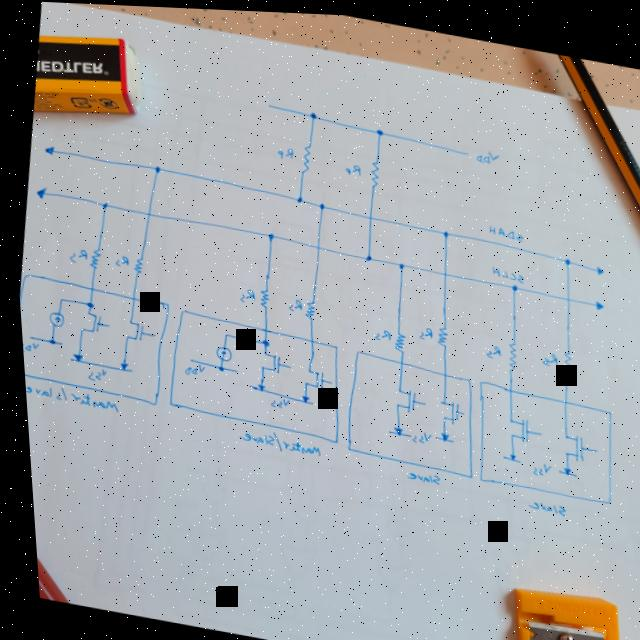crossover: (311, 240, 321, 250), (560, 290, 570, 299), (438, 266, 447, 275), (364, 210, 373, 219), (142, 209, 151, 218)
junction: (373, 123, 385, 135), (150, 162, 161, 173), (505, 278, 517, 288), (307, 108, 318, 118), (559, 252, 570, 262), (263, 229, 274, 239), (257, 336, 267, 346), (292, 192, 302, 202), (43, 336, 54, 345), (394, 257, 403, 267), (439, 225, 449, 234), (98, 200, 108, 209), (360, 250, 370, 259), (315, 199, 324, 208), (82, 299, 91, 308), (54, 295, 62, 303), (218, 330, 226, 337), (214, 363, 221, 371)
resistor: (296, 140, 314, 173), (499, 335, 516, 368), (364, 155, 381, 185), (556, 344, 571, 373), (84, 246, 101, 271), (253, 285, 269, 308), (431, 321, 447, 344), (388, 327, 404, 349), (300, 296, 315, 318), (128, 255, 143, 276)
source: (432, 425, 447, 440), (384, 421, 400, 434), (114, 360, 126, 372), (68, 352, 80, 362), (296, 392, 306, 401), (557, 462, 566, 471), (252, 382, 261, 389), (503, 450, 512, 457)
terminal: (243, 383, 311, 403), (65, 356, 129, 373), (183, 356, 237, 371), (25, 335, 60, 346), (30, 183, 47, 200), (382, 426, 408, 436), (41, 143, 56, 157), (589, 294, 603, 308), (553, 465, 572, 474), (429, 432, 450, 440), (496, 452, 517, 459), (591, 260, 603, 271), (264, 99, 274, 107), (100, 321, 108, 329), (461, 146, 469, 154), (281, 362, 288, 369), (531, 426, 538, 432), (588, 442, 594, 449), (146, 332, 152, 337), (324, 377, 329, 383), (416, 397, 422, 402), (455, 408, 460, 414)
text: (20, 380, 116, 413), (231, 424, 318, 456), (484, 219, 524, 238), (520, 494, 562, 512), (487, 261, 523, 279), (401, 466, 436, 482), (64, 244, 87, 267), (473, 143, 500, 162), (524, 455, 548, 474), (404, 426, 429, 443), (178, 359, 202, 376), (273, 143, 296, 160), (81, 366, 104, 383), (235, 283, 253, 303), (264, 393, 286, 409), (369, 325, 390, 341), (18, 339, 36, 357), (341, 159, 362, 174), (111, 252, 129, 269), (480, 340, 499, 356), (536, 347, 555, 363), (283, 294, 301, 310), (414, 322, 430, 338)
transistor: (554, 427, 584, 459), (500, 411, 527, 439), (297, 362, 325, 388), (388, 382, 414, 410), (74, 309, 101, 335), (118, 318, 145, 343), (433, 394, 457, 422), (255, 349, 280, 373)
